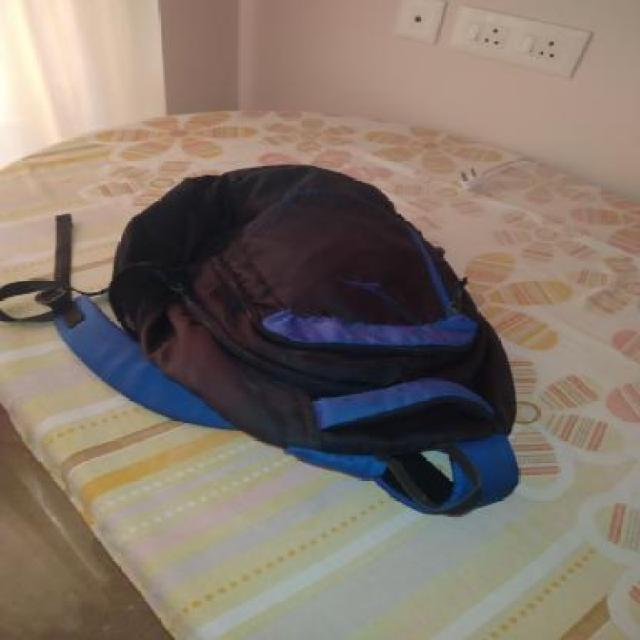backpack: (40, 157, 526, 520)
